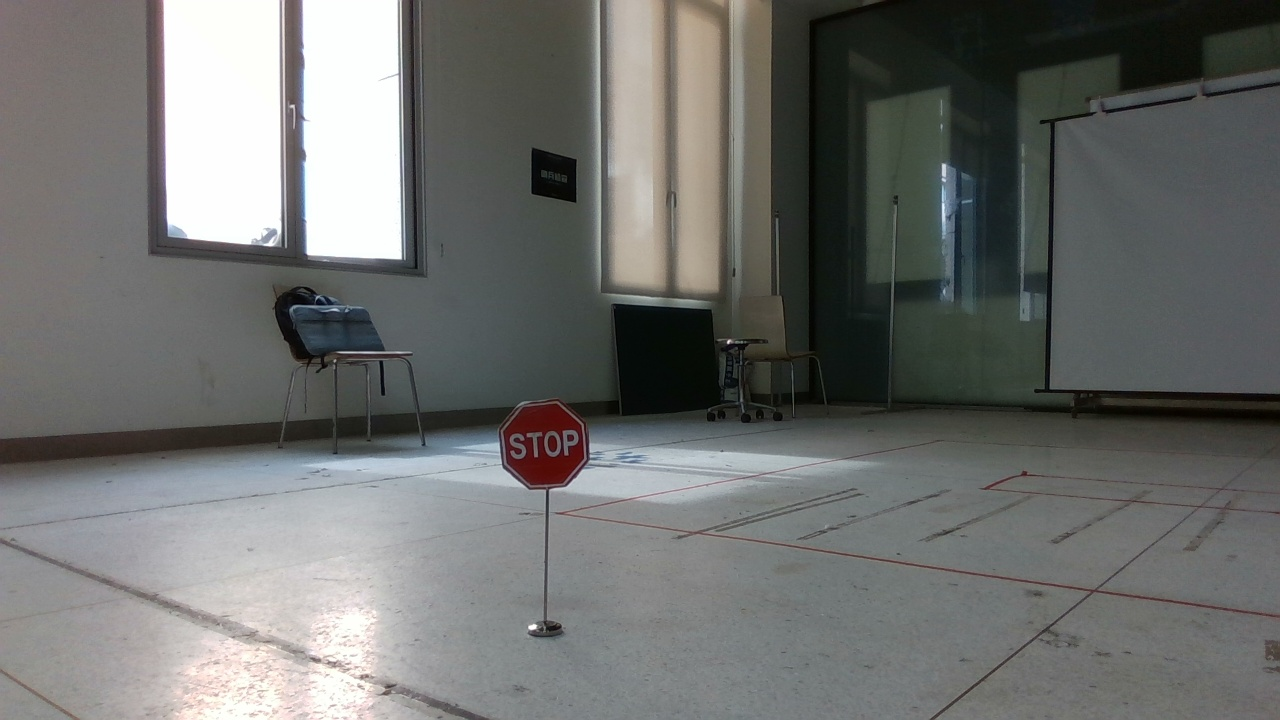stop_sign: (483, 386, 620, 648)
